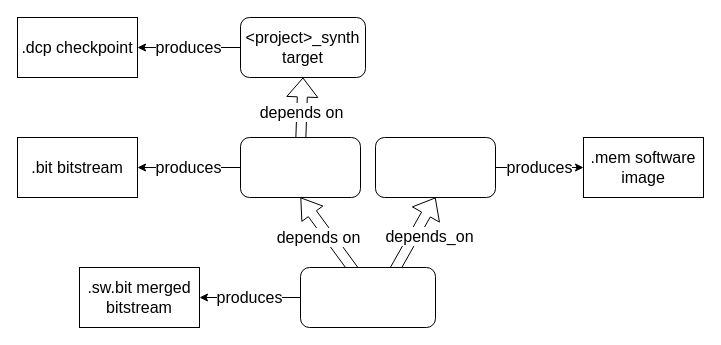
Image size: 721x345. Some labels were removed from this diagram. Each missing label, with the box of its shape:
<project>_bit target: (240, 136, 360, 198)
<project>_bit_sw target: (300, 266, 436, 328)
project software target: (374, 136, 496, 198)
